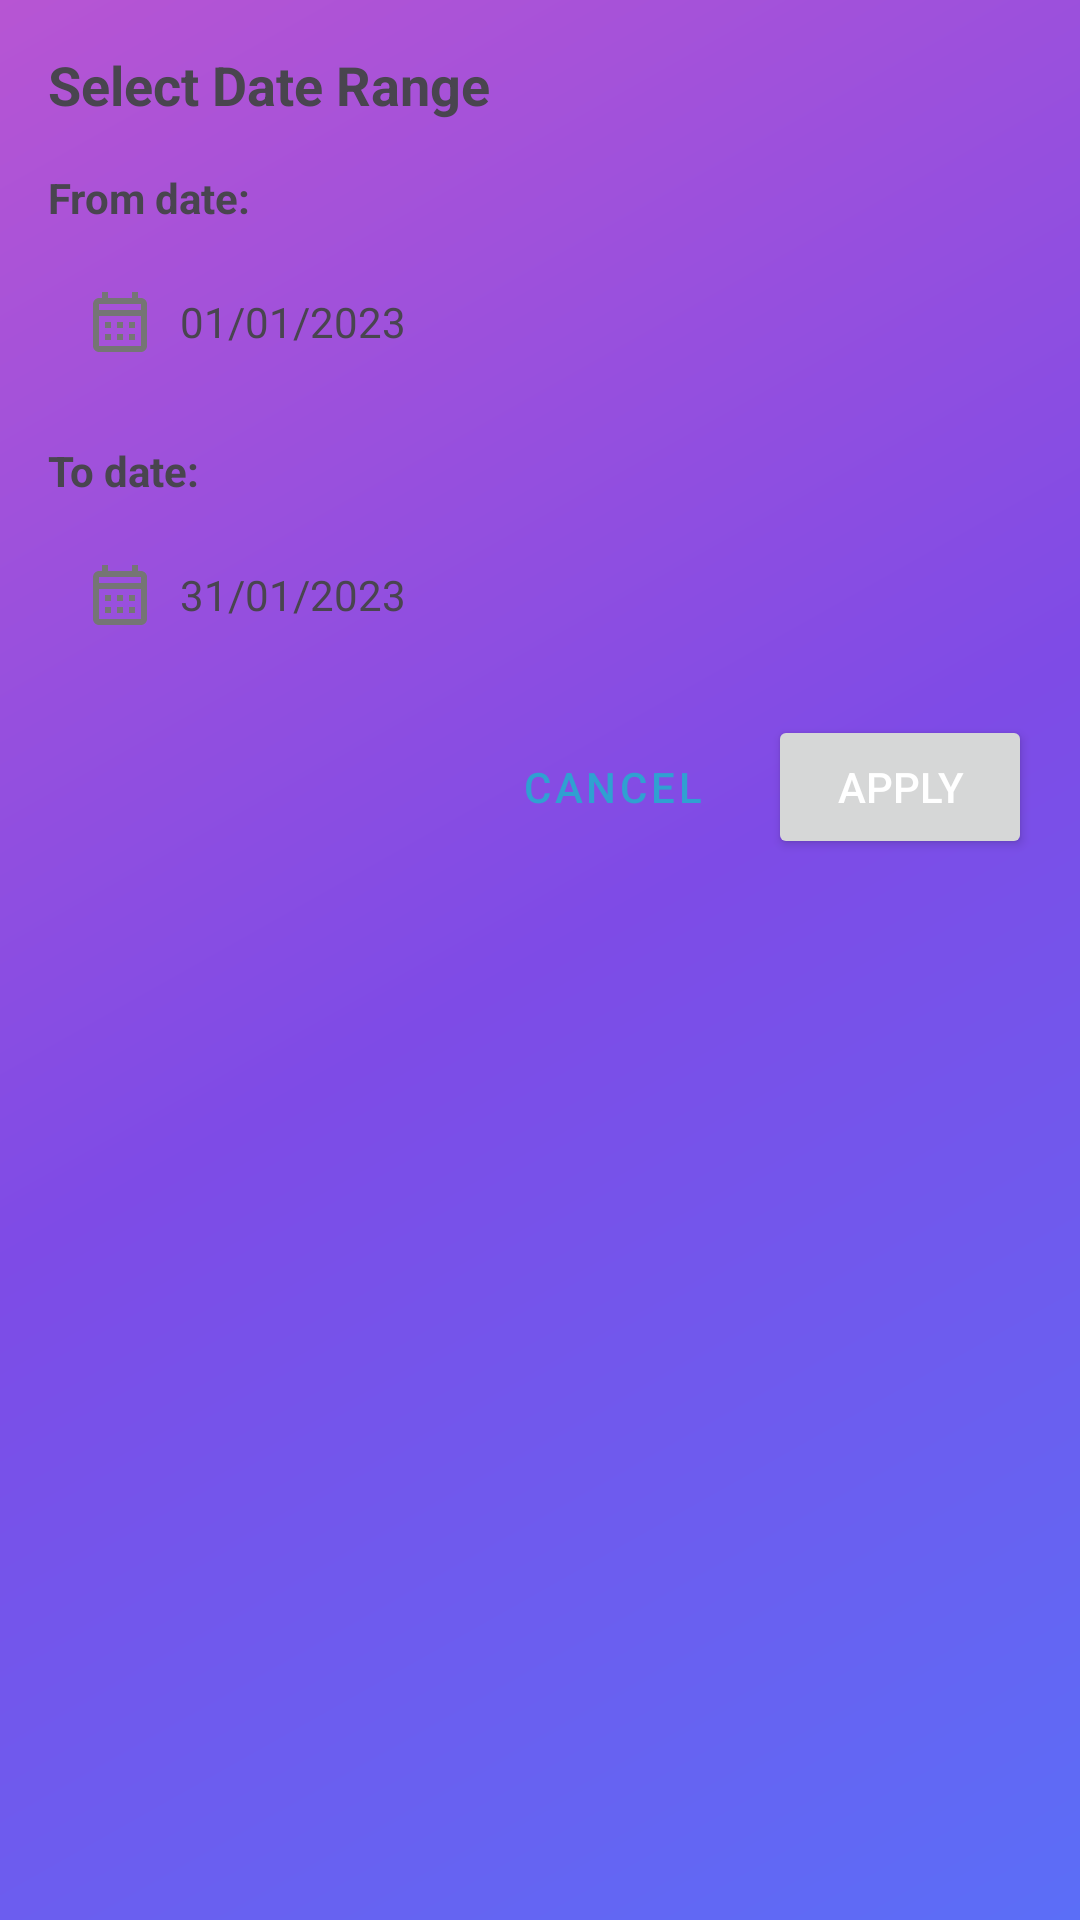

Screen size 1080 x 1920. Icon name, then its center in pixels as point (x, y):
calendar: point (120, 322), point (120, 595)
